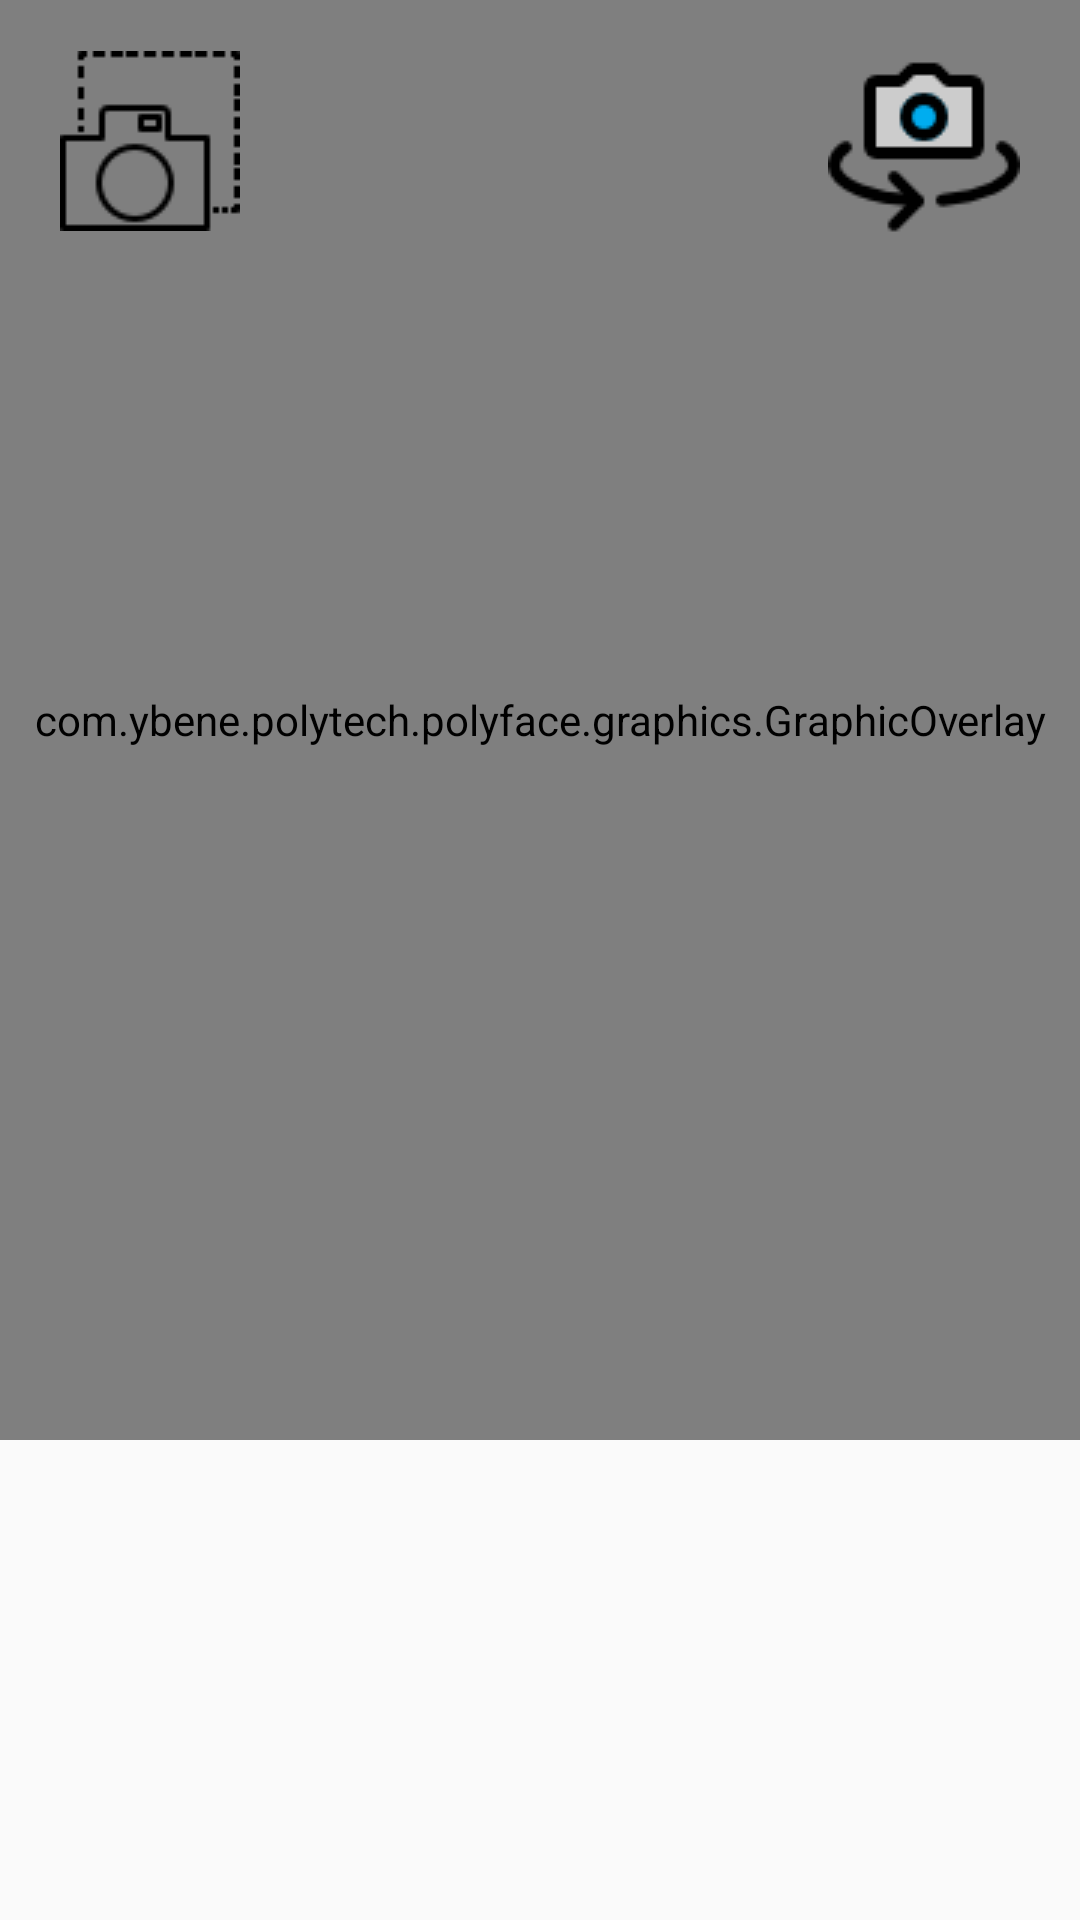

Locate icon controls on the screen. Image size 1080x1920, boxes as (x1, y1, x2, y2).
camera activity swap: (828, 62, 1020, 232)
